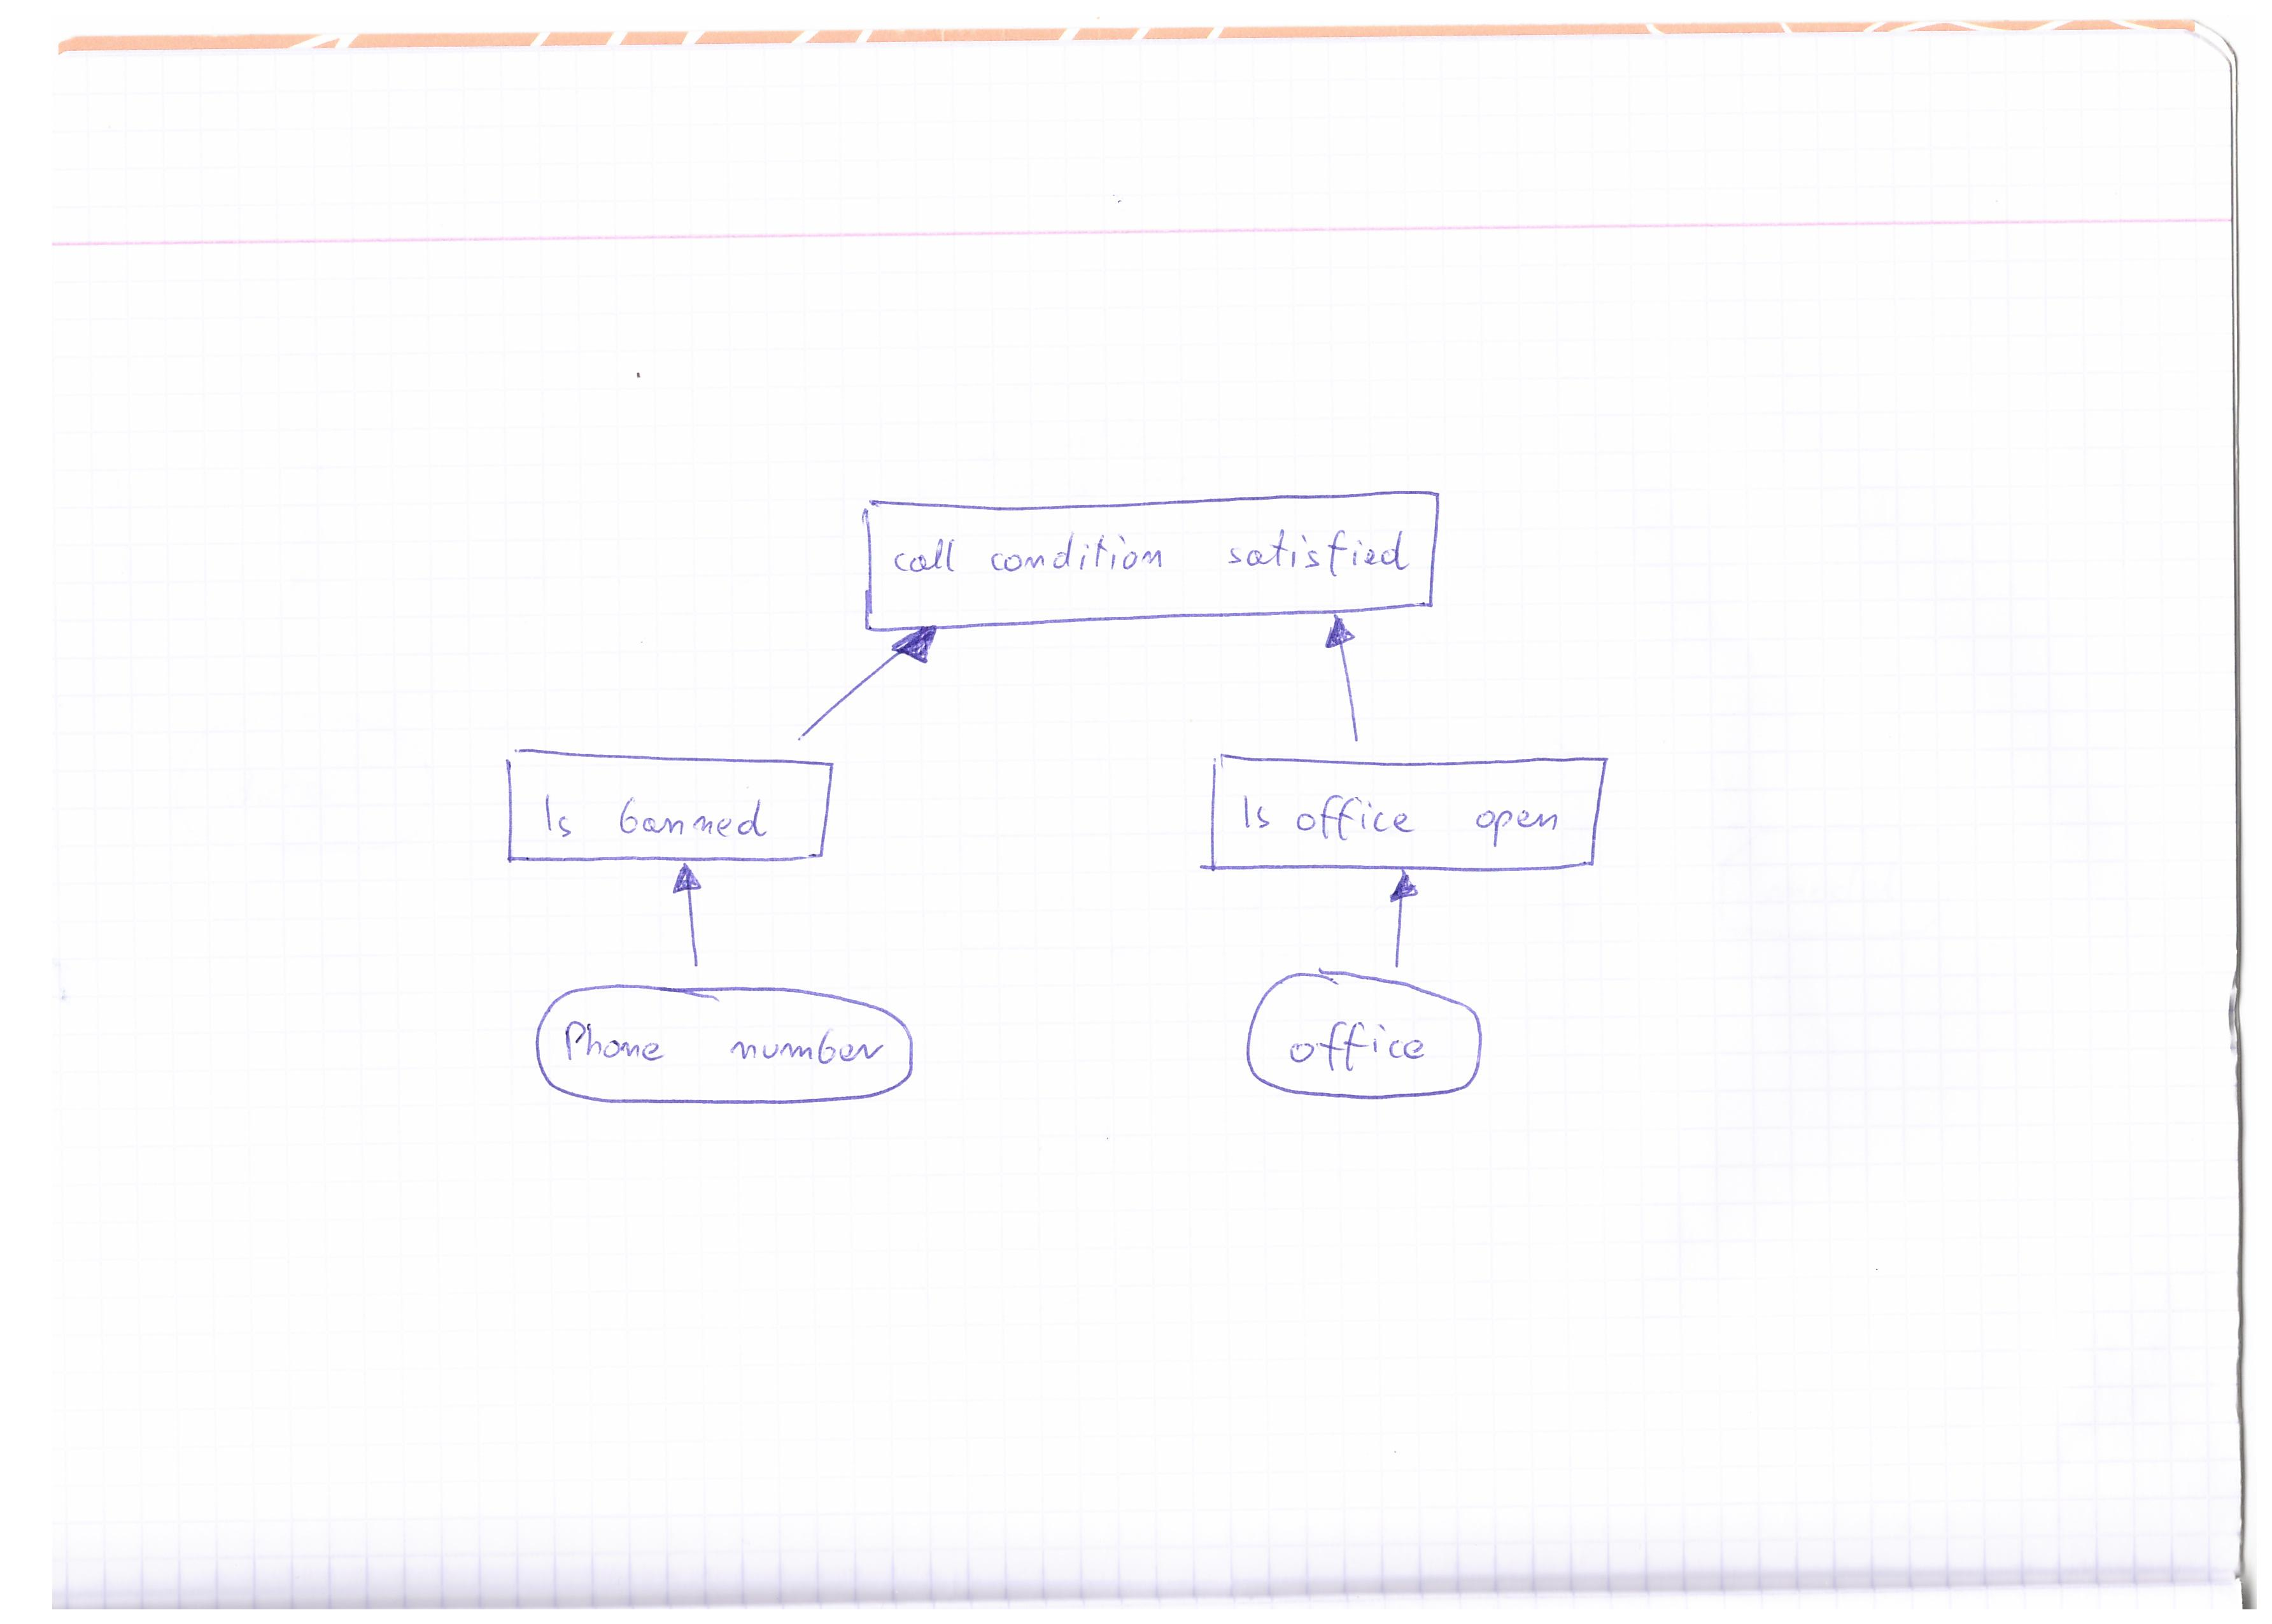arrow_information_requirement: (770, 622, 947, 749), (1318, 610, 1385, 754), (657, 858, 731, 974), (1372, 858, 1434, 974)
node_decision: (843, 485, 1446, 627), (1188, 747, 1615, 881), (480, 743, 836, 865)
node_input_data: (525, 982, 937, 1118), (1221, 961, 1511, 1114)
text: (880, 520, 1423, 587), (1223, 780, 1583, 861), (548, 1005, 889, 1084), (527, 773, 784, 847), (1279, 1004, 1444, 1079)
